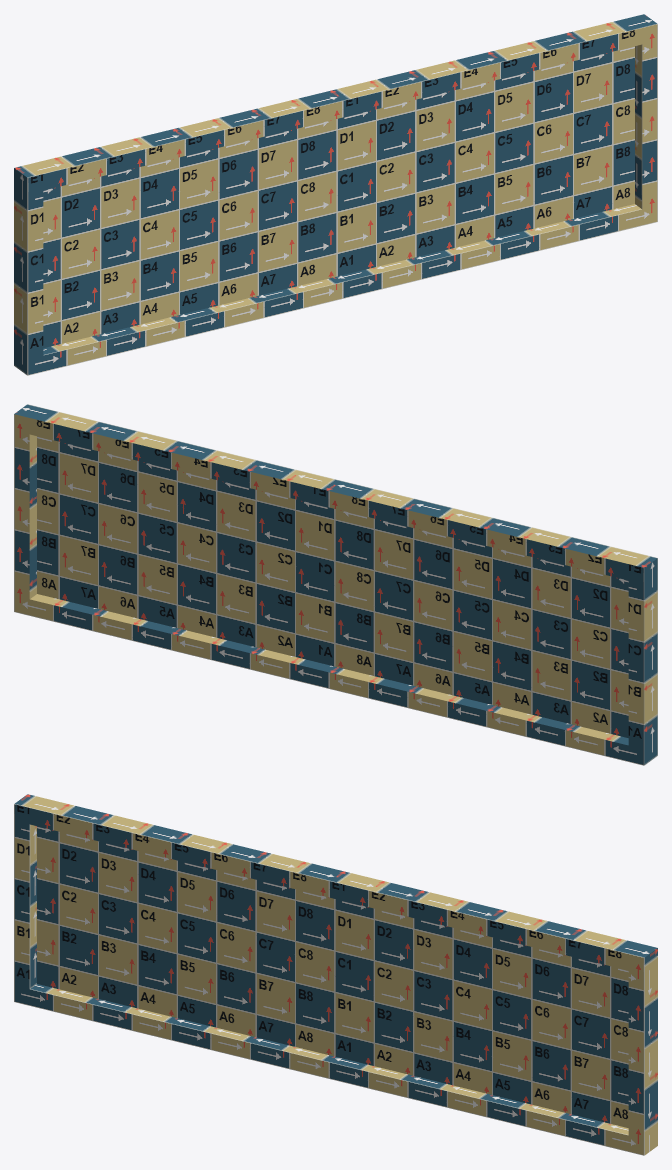
File: WINDOW_InteriorObservation.fbx
3 views of the same model, one above another, from view 1: azimuth 30°, elevation 25°; view 2: azimuth 150°, elevation 25°; view 3: azimuth 330°, elevation 25° (orthographic).
Visible parts, largest first — view 1: WINDOW_InteriorObservation; view 2: WINDOW_InteriorObservation; view 3: WINDOW_InteriorObservation.
Boxes of the visible parts, bbox=[...] form: WINDOW_InteriorObservation: bbox=[14, 14, 657, 375]; WINDOW_InteriorObservation: bbox=[14, 404, 657, 765]; WINDOW_InteriorObservation: bbox=[14, 794, 657, 1155].
Bounding box in the file's own units: 400 × 120 × 15.
Materials: 2 (2 with a texture image).
